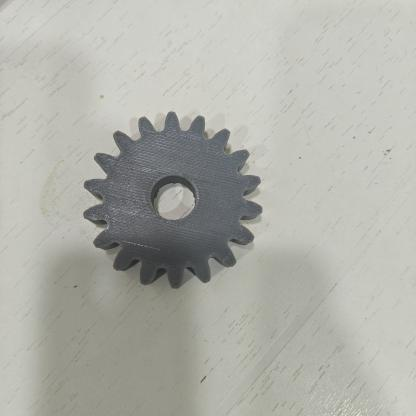gear: (76, 104, 277, 300)
